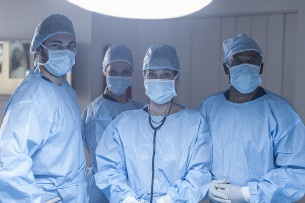Mask: (145, 69, 178, 103)
